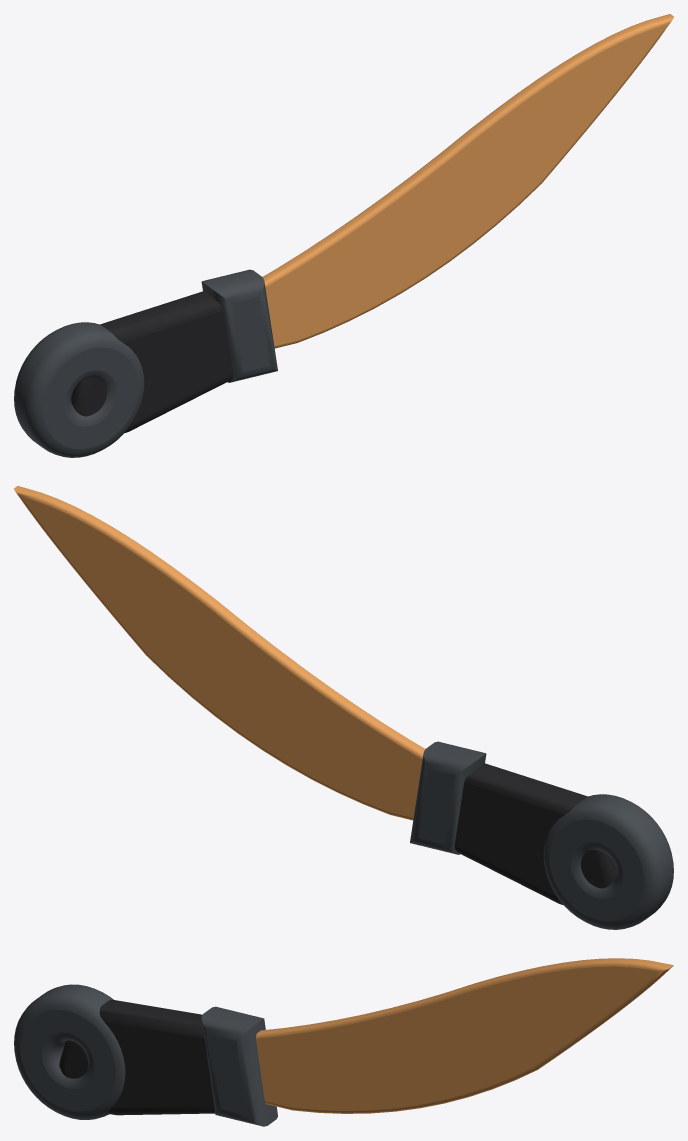
File: karambit.glb
The picture shows the model from 3 angles, top to bottom: view 1: azimuth 30°, elevation 25°; view 2: azimuth 150°, elevation 25°; view 3: azimuth 330°, elevation 25°; orthographic projection.
Visible parts, largest first — view 1: paint_0, metal_2, poly_1, metal_3; view 2: paint_0, metal_2, poly_1, metal_3; view 3: paint_0, poly_1, metal_2, metal_3.
Part boxes in pixels (x1,y1,x2,y2): paint_0: (262,14,673,348); metal_2: (14,322,144,457); poly_1: (71,291,233,433); metal_3: (201,269,277,382); paint_0: (14,486,425,820); metal_2: (543,794,673,929); poly_1: (454,763,616,905); metal_3: (410,741,486,854); paint_0: (256,958,673,1113); poly_1: (59,999,214,1115); metal_2: (14,984,125,1119); metal_3: (201,1006,277,1126).
Bounding box in the file's own units: 248 × 106 × 15.
